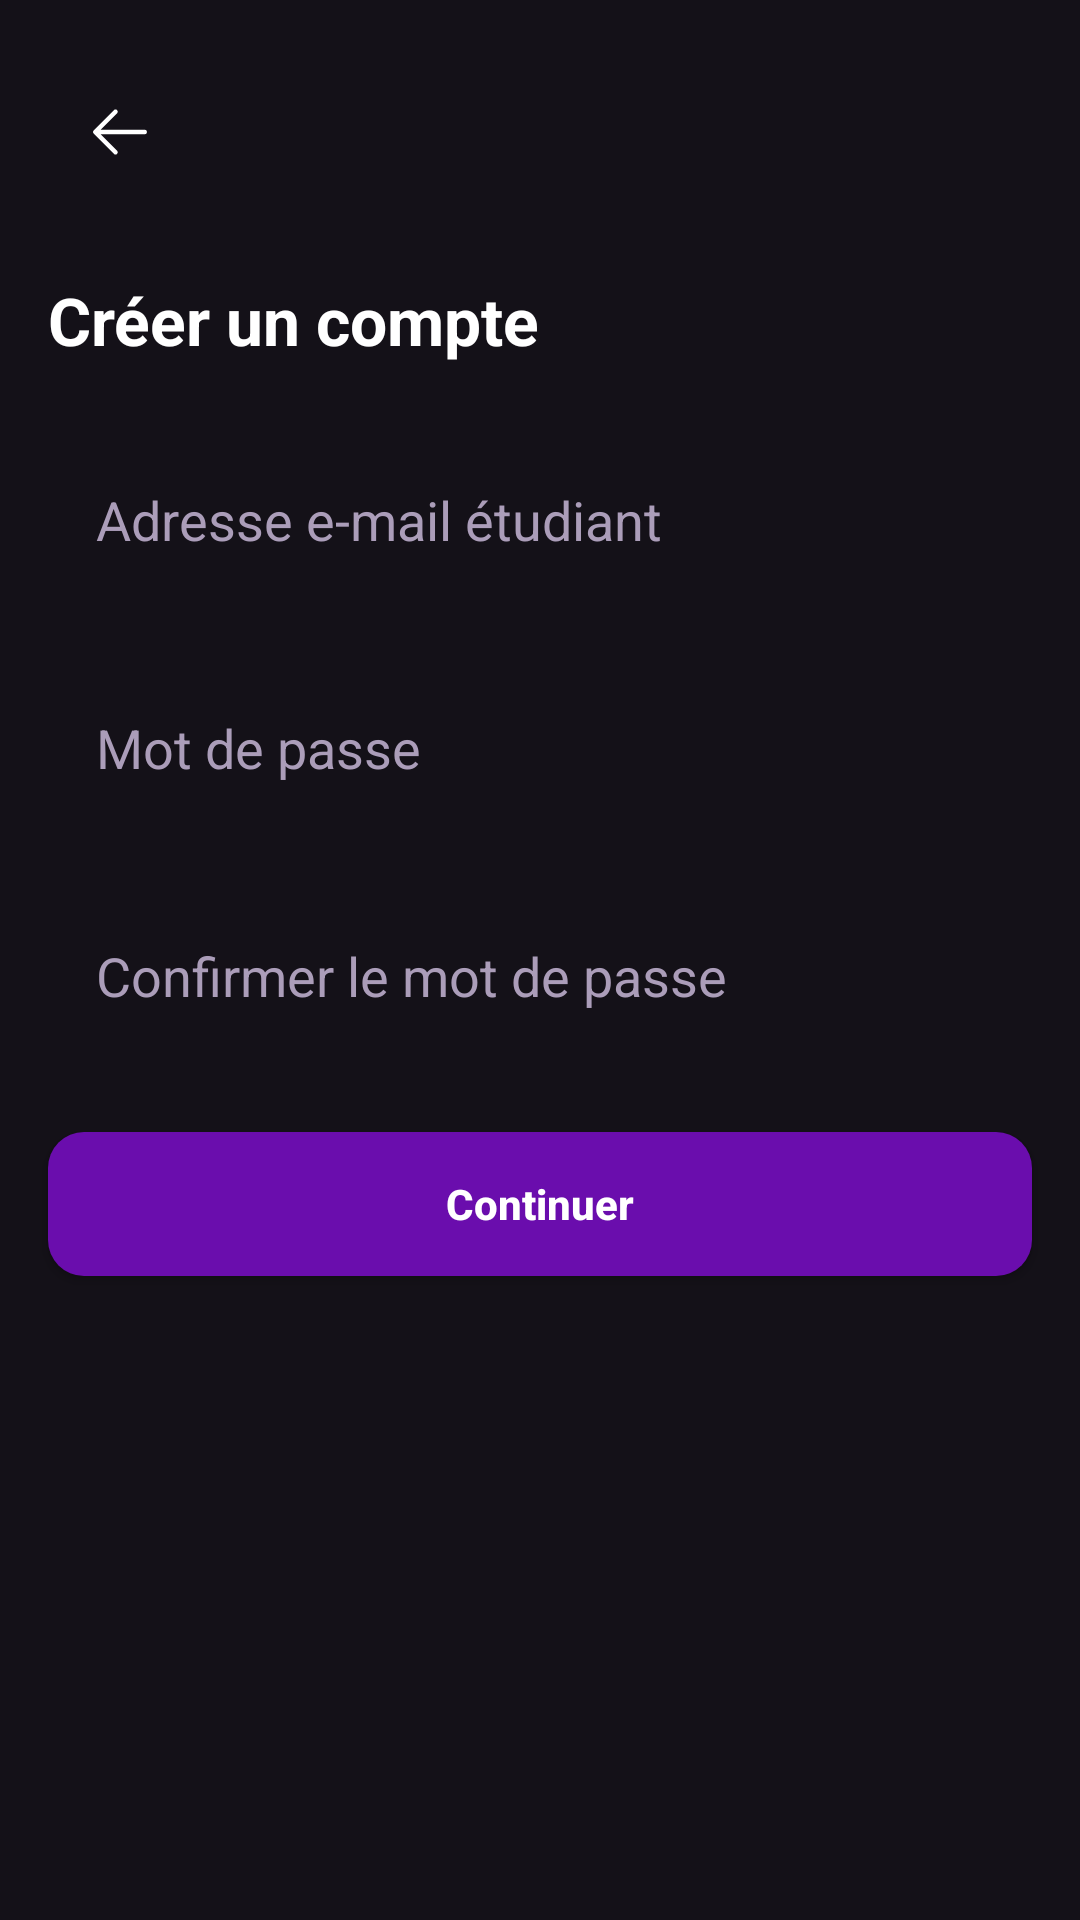

Screen size 1080×1920. Icon name, then its center in pixels as (x,y):
Retour: (120,132)
